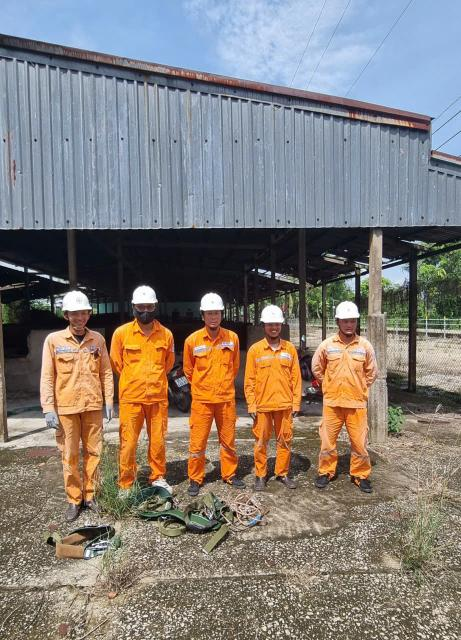gloves: (96, 401, 117, 423), (43, 411, 62, 431), (289, 408, 301, 421), (247, 411, 262, 421)
helmet: (125, 285, 166, 310), (59, 287, 95, 315), (200, 290, 227, 315), (263, 303, 287, 325), (338, 300, 361, 319)
shoes: (148, 475, 177, 503), (345, 471, 376, 497), (65, 494, 82, 528), (312, 468, 337, 491), (83, 494, 105, 520), (273, 470, 297, 492), (113, 483, 134, 507), (181, 473, 201, 498), (220, 475, 248, 490), (248, 470, 269, 489)
